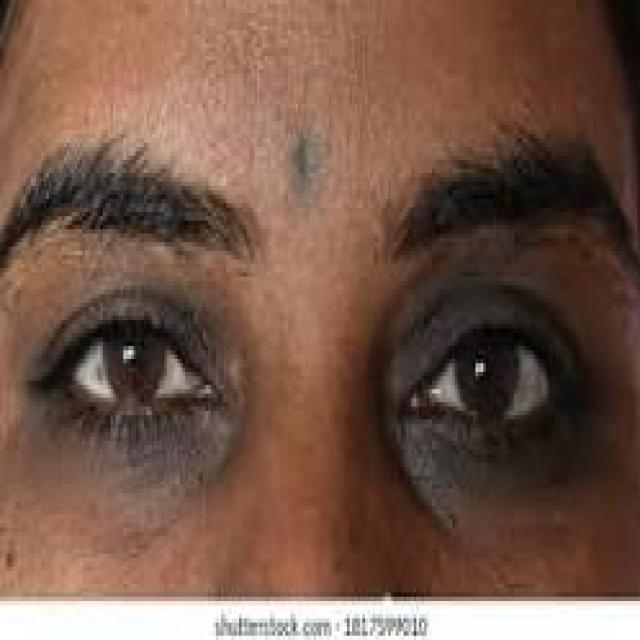high: (410, 412, 605, 510), (39, 412, 235, 502)
